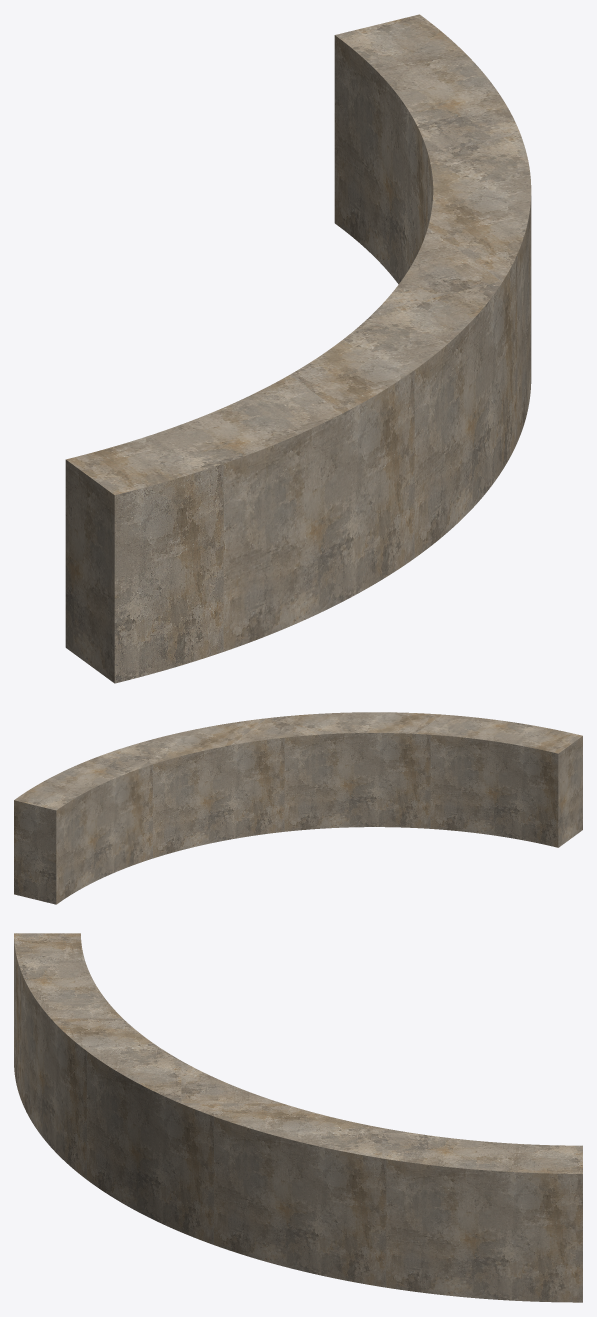
The model's file is silo-wall-quarter.gltf.
The picture shows the model from 3 angles, top to bottom: view 1: azimuth 30°, elevation 25°; view 2: azimuth 150°, elevation 25°; view 3: azimuth 270°, elevation 25°; orthographic projection. The views are drawn at different scales.
Parts seen in each view (by area): view 1: component-exterior-22-concrete-0; view 2: component-exterior-22-concrete-0; view 3: component-exterior-22-concrete-0.
Part boxes in pixels (<box>): component-exterior-22-concrete-0: <box>65,14,531,683</box>; component-exterior-22-concrete-0: <box>14,712,582,904</box>; component-exterior-22-concrete-0: <box>14,933,582,1302</box>.
Bounding box in the file's own units: 8.5 × 2.12 × 8.5.
Materials: 1 (1 with a texture image).
